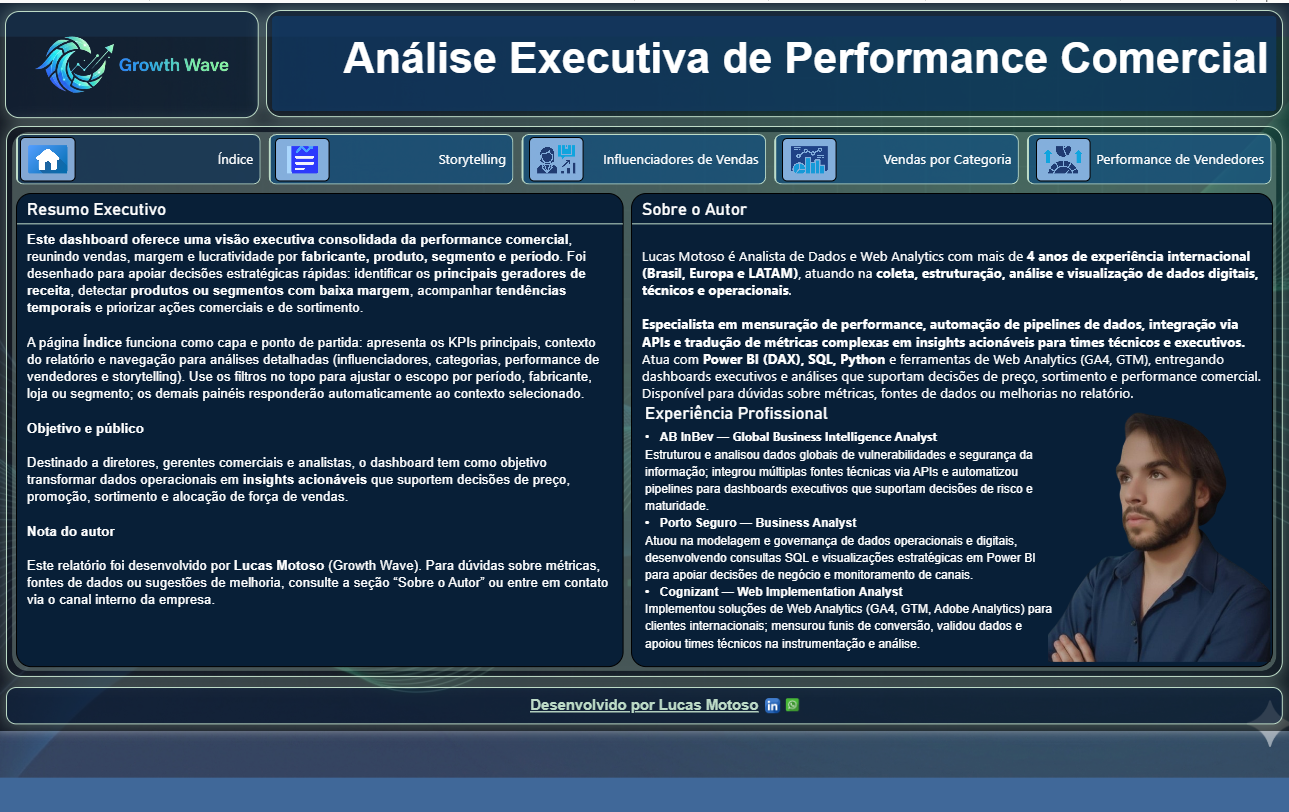

What the dashboard file says about the page in this screenshot:
{"tool":"powerbi","page":{"name":"Índice","canvas":[1280,720],"ordinal":0},"visuals":[{"type":"image","box":[7.9,7.9,251.4,105.9],"z":0},{"type":"textbox","box":[8.9,676.9,1262.8,36.6],"z":0,"group":"g1"},{"type":"shape","box":[8.6,121.8,1262.8,545.2],"z":1000},{"type":"image","box":[755.1,682.8,25,25],"z":1000,"group":"g1"},{"type":"shape","box":[265.8,7.4,1005.5,105.8],"z":2000},{"type":"image","box":[774.3,682.1,25,25],"z":2000,"group":"g1"},{"type":"textbox","box":[265.8,25.8,996.9,68.9],"z":3000},{"type":"pageNavigator","box":[18.8,129.6,1245,50.5],"z":4000},{"type":"group","id":"g1","title":"Grupo 1","box":[8.9,676.9,1262.8,36.6],"z":5000},{"type":"image","box":[23.2,132.7,54.5,43.6],"z":6000},{"type":"image","box":[274.6,133.1,54.3,42.9],"z":7000},{"type":"image","box":[525.8,132.7,54,43.6],"z":8000},{"type":"image","box":[776.7,133.1,54.3,42.9],"z":9000},{"type":"image","box":[1027.9,133.1,54.3,42.9],"z":10000},{"type":"textbox","title":"Resumo Executivo","box":[18.8,188,600.7,469.1],"z":11000},{"type":"textbox","title":"Sobre o Autor","box":[627.5,188,635.4,469.1],"z":12000},{"type":"textbox","title":"Experiência Profissional","box":[636.4,395.9,415.7,253.4],"z":14000},{"type":"image","box":[1034.2,388.9,229.6,268.2],"z":14001}]}

Visuals, with their boxes on the page's 1280x720 design canvas (x1, y1, x2, y2). These are canvas units, not pixel positions in the 1289x812 screenshot, which may show the page scaled, cropped or inside an application window:
image: x1=8, y1=8, x2=259, y2=114
textbox: x1=9, y1=677, x2=1272, y2=714
shape: x1=9, y1=122, x2=1271, y2=667
image: x1=755, y1=683, x2=780, y2=708
shape: x1=266, y1=7, x2=1271, y2=113
image: x1=774, y1=682, x2=799, y2=707
textbox: x1=266, y1=26, x2=1263, y2=95
pageNavigator: x1=19, y1=130, x2=1264, y2=180
"Grupo 1" group: x1=9, y1=677, x2=1272, y2=714
image: x1=23, y1=133, x2=78, y2=176
image: x1=275, y1=133, x2=329, y2=176
image: x1=526, y1=133, x2=580, y2=176
image: x1=777, y1=133, x2=831, y2=176
image: x1=1028, y1=133, x2=1082, y2=176
"Resumo Executivo" textbox: x1=19, y1=188, x2=620, y2=657
"Sobre o Autor" textbox: x1=628, y1=188, x2=1263, y2=657
"Experiência Profissional" textbox: x1=636, y1=396, x2=1052, y2=649
image: x1=1034, y1=389, x2=1264, y2=657
